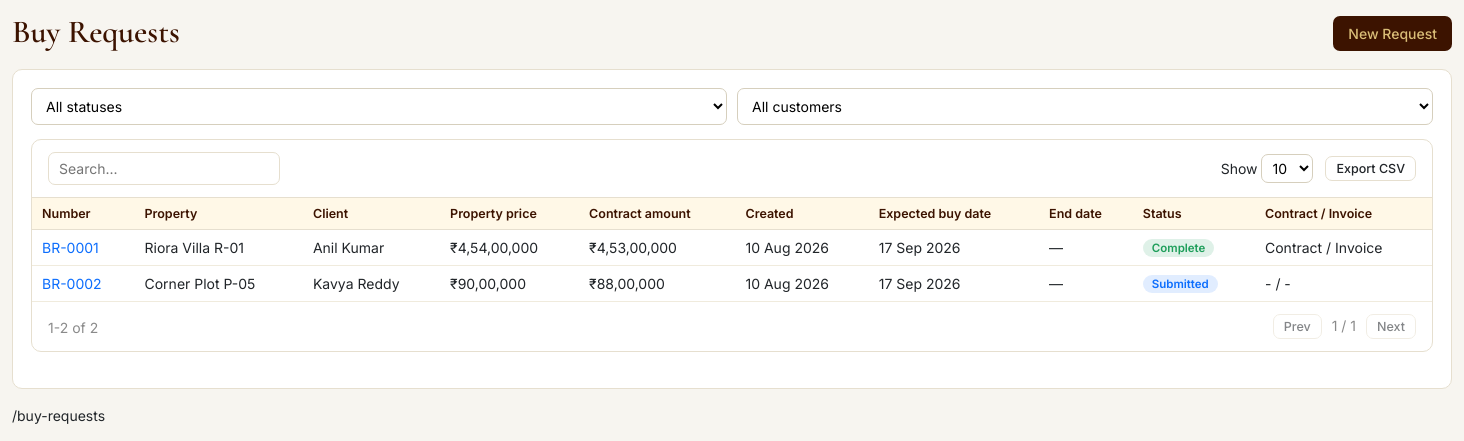
Test: Requests list (PLAN §7) › customer filter narrows rows
Expected: the link "BR-0001" is shown, [42,239,99,256]
Select "Kavya Reddy" in the 2nd dropdown showing "All customers" at (1085, 106), box [737,88,1433,125]
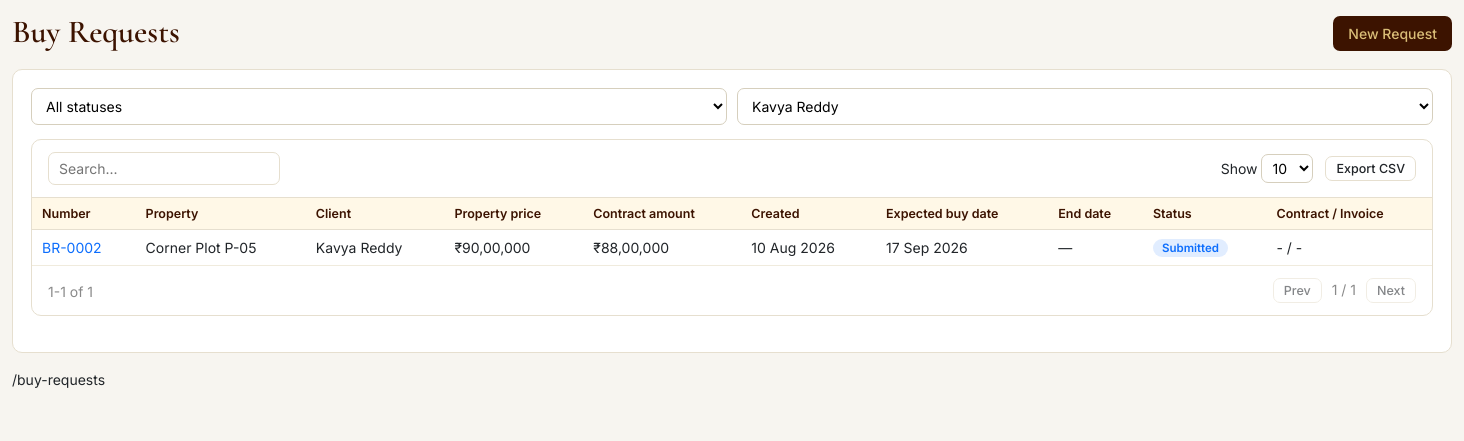
Expected: the link "BR-0002" is shown, [42,239,102,256]
Expected: the link "BR-0001" is gone
